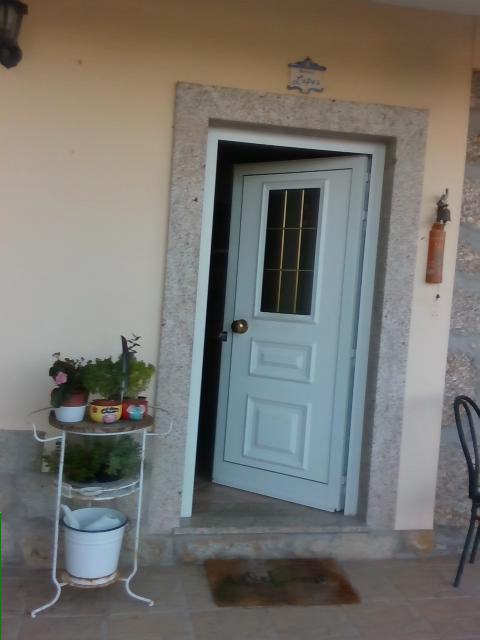semi_door: (181, 116, 402, 526)
